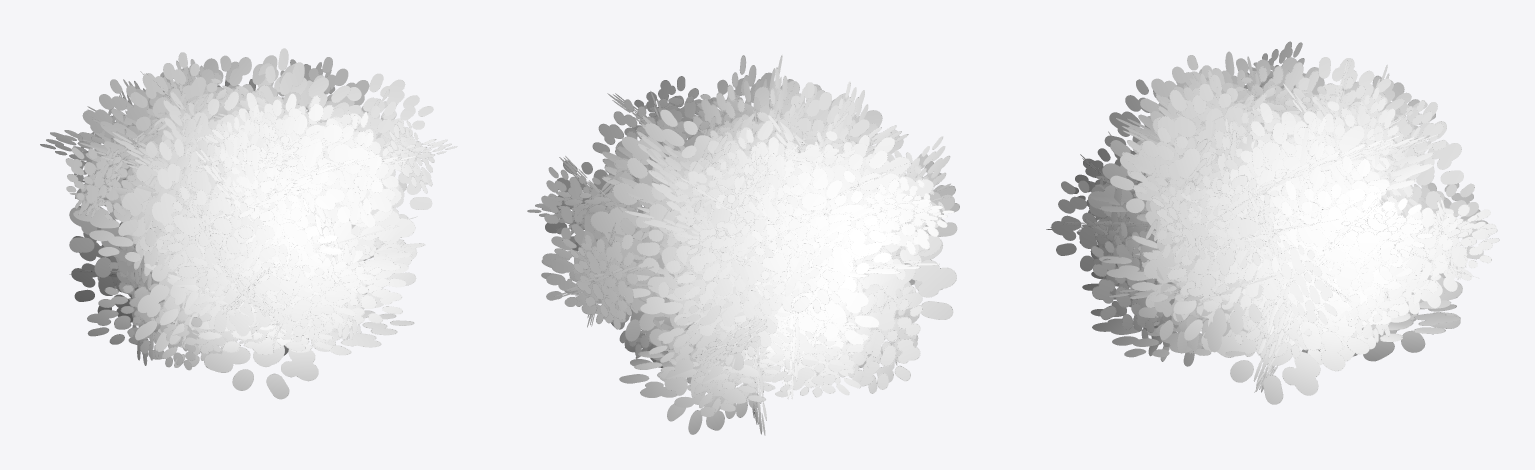
The model's file is Bush_Common.gltf.
The picture shows the model from 3 angles, left to right: view 1: azimuth 30°, elevation 25°; view 2: azimuth 150°, elevation 25°; view 3: azimuth 270°, elevation 25°; orthographic projection. The views are drawn at different scales.
Visible parts, largest first — view 1: Bush_Common; view 2: Bush_Common; view 3: Bush_Common.
Boxes of the visible parts, x1,y1,x2,y2 form: Bush_Common: (40, 48, 457, 399); Bush_Common: (527, 55, 959, 435); Bush_Common: (1046, 41, 1499, 404).
Bounding box in the file's own units: 2.02 × 1.82 × 2.19.
Materials: 1 (1 with a texture image).
